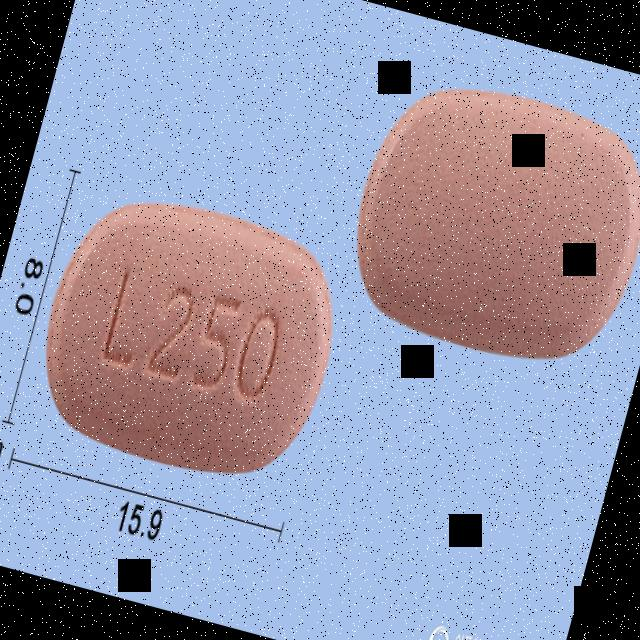Levoby - 500mg: (21, 174, 358, 496)
